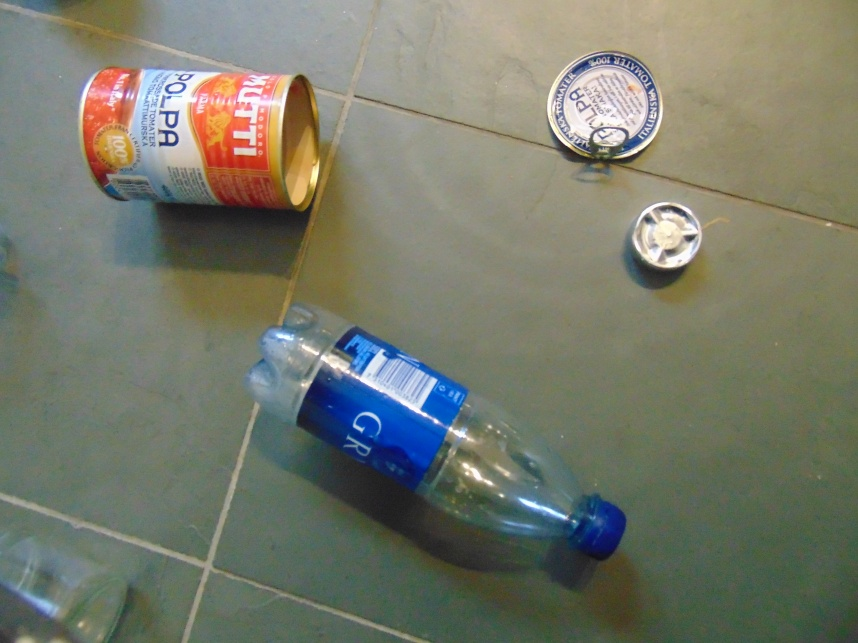glass_bottle: (1, 520, 131, 643)
metal: (547, 48, 663, 161), (628, 201, 703, 272)
metal_can: (78, 64, 321, 211)
plastic_bottle: (245, 299, 627, 561)
